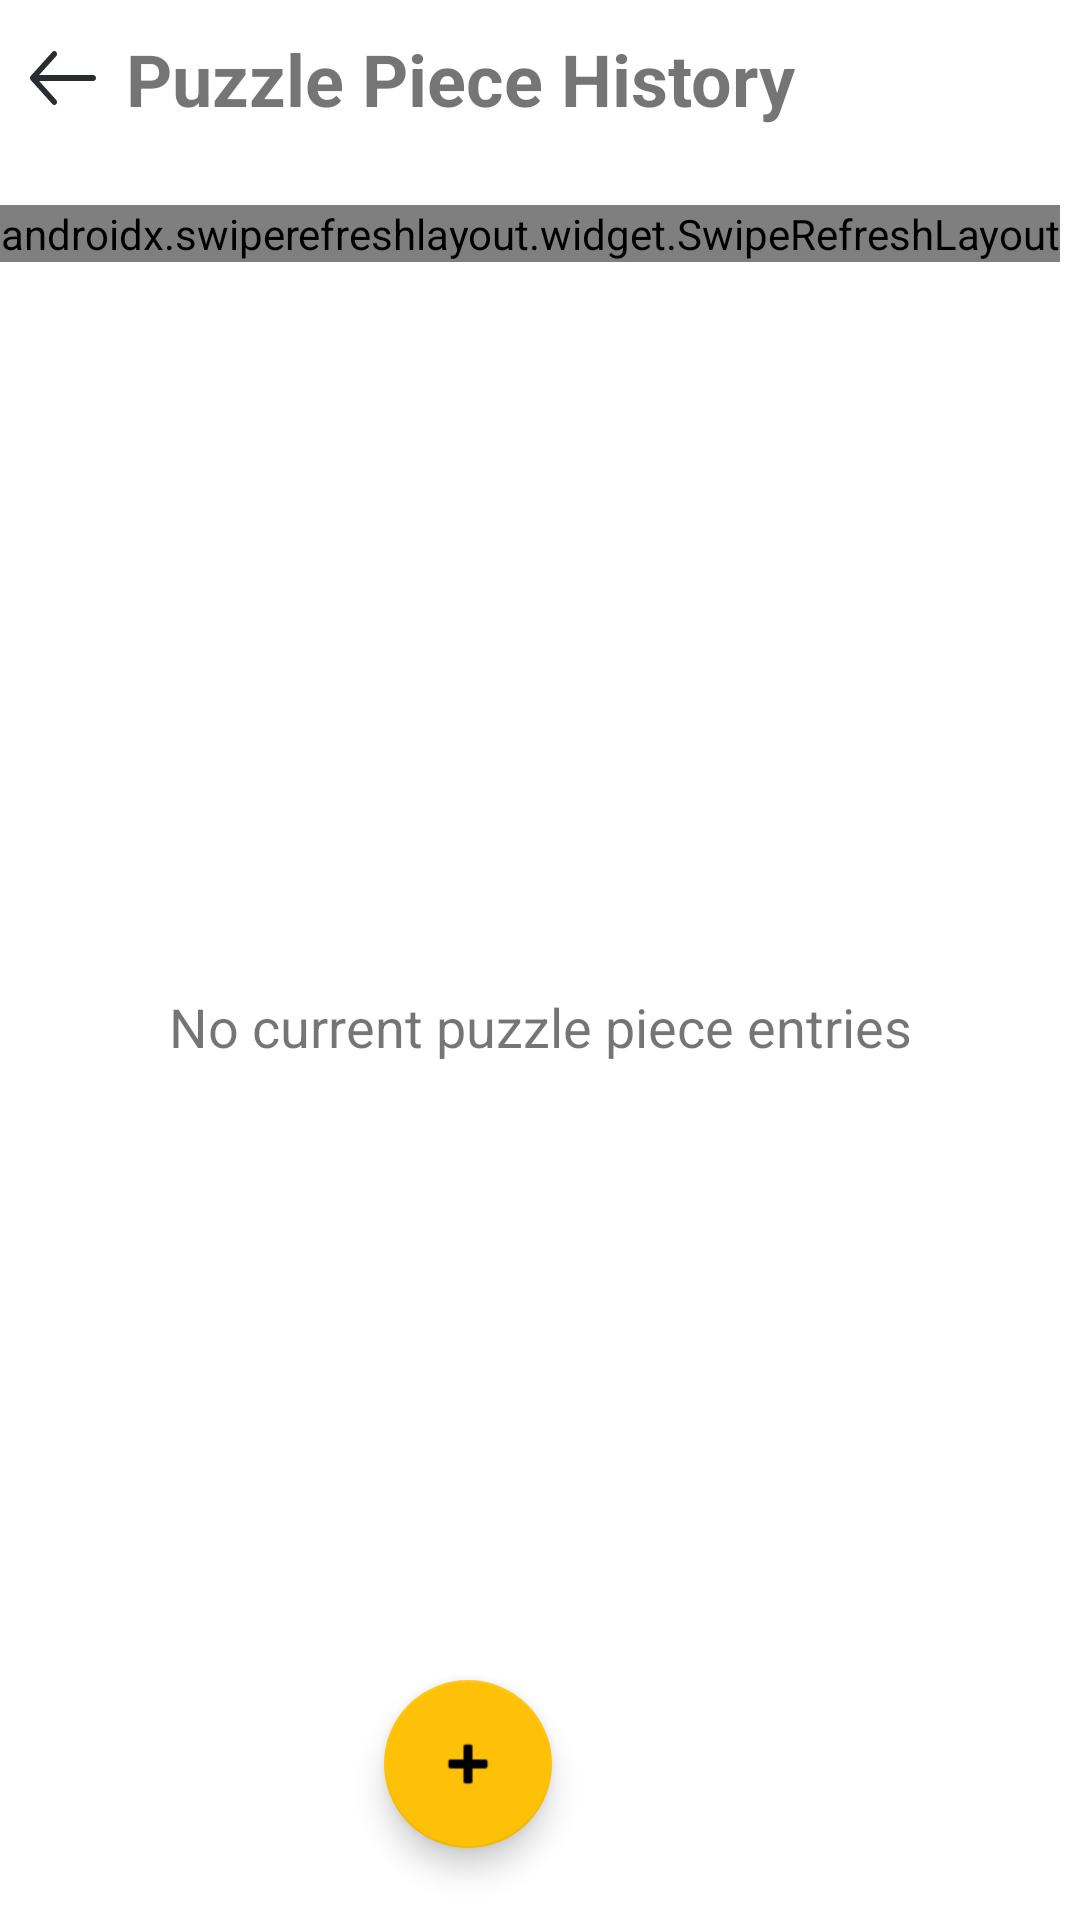

Where to tap for icons on this 1080px x 1920px app screen, as [x,y]:
add: [468,1764]
back arrow: [63,78]
